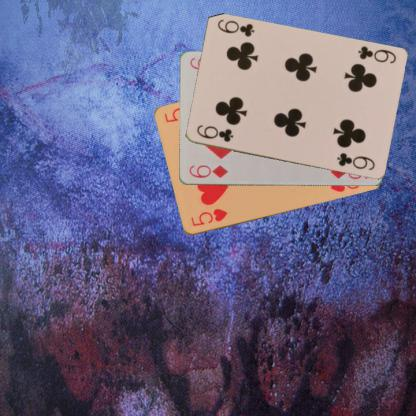5h: (188, 206, 229, 228)
6c: (355, 43, 397, 65), (193, 122, 234, 144)
6d: (186, 162, 230, 179)
